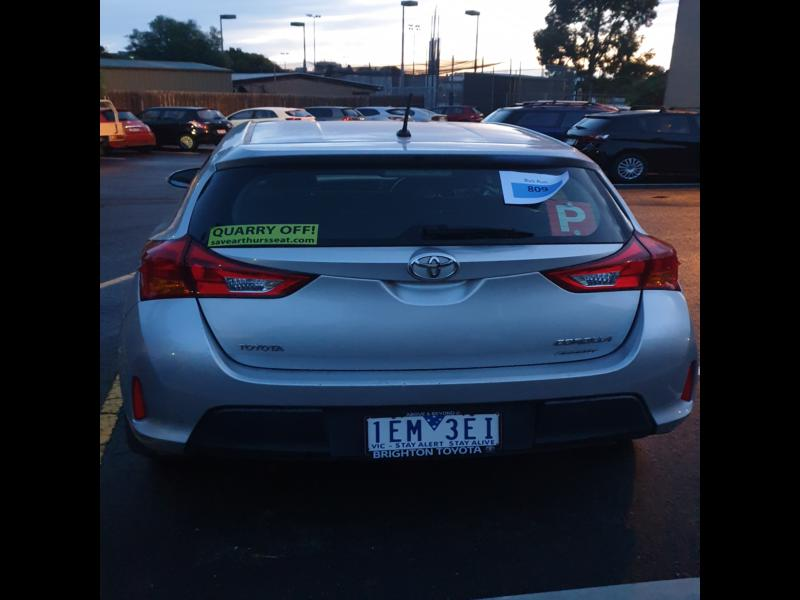BusRun: (511, 182, 564, 197)
PlateNo: (365, 415, 504, 448)
